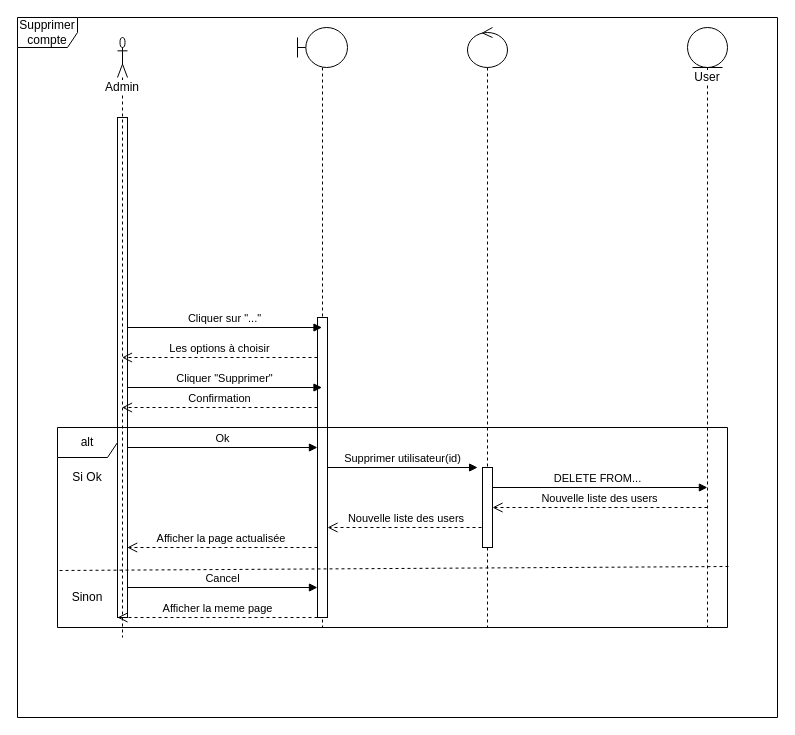
Some shapes in this 795 by 735 pixel diagram are drawn without their labels. The box of each missing label's shape, as (x1, y1, x2, y2) in pixels:
User Management: (296, 26, 348, 628)
User Management controller: (466, 26, 508, 628)
